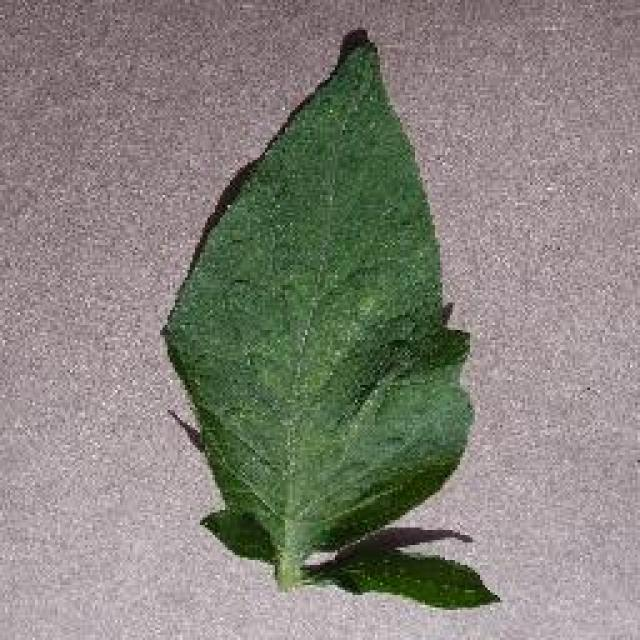Tom_Spider_mites Two-spotted_spider_mite: (231, 164, 415, 468)
